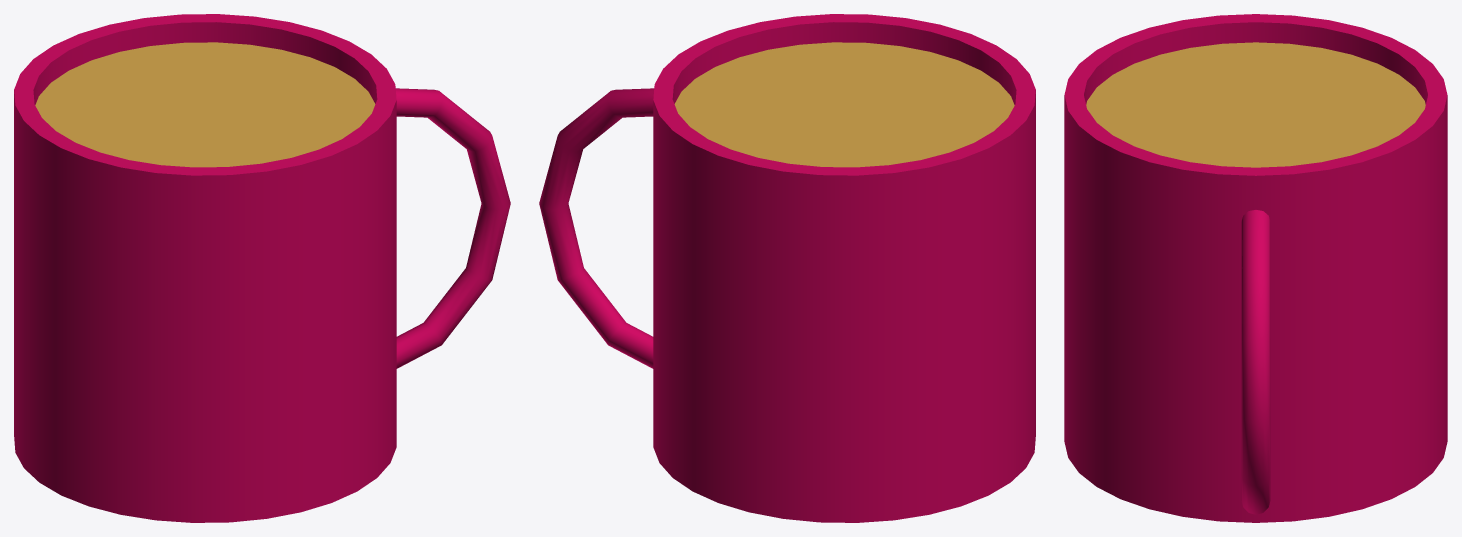
Rendered from bettercup.obj.
3 views of the same model, side by side, from view 1: azimuth 30°, elevation 25°; view 2: azimuth 150°, elevation 25°; view 3: azimuth 270°, elevation 25° (orthographic).
Visible parts, largest first — view 1: Cylinder, Cylinder.001; view 2: Cylinder, Cylinder.001; view 3: Cylinder, Cylinder.001.
Part boxes in pixels (x1,y1,x2,y2): Cylinder: (14,14,510,522); Cylinder.001: (35,42,375,167); Cylinder: (539,14,1035,522); Cylinder.001: (674,42,1014,167); Cylinder: (1064,14,1447,522); Cylinder.001: (1086,42,1425,167).
Bounding box in the file's own units: 2.83 × 2 × 2.
